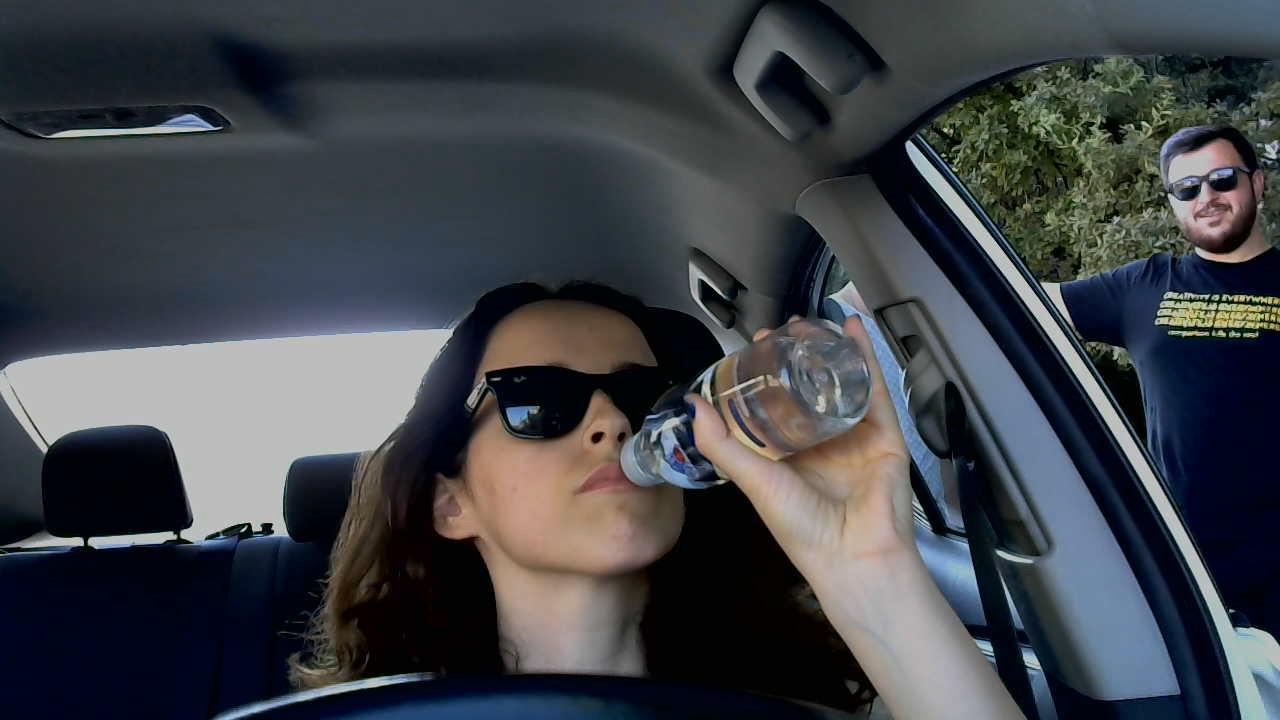Drinking: (429, 303, 886, 573)
